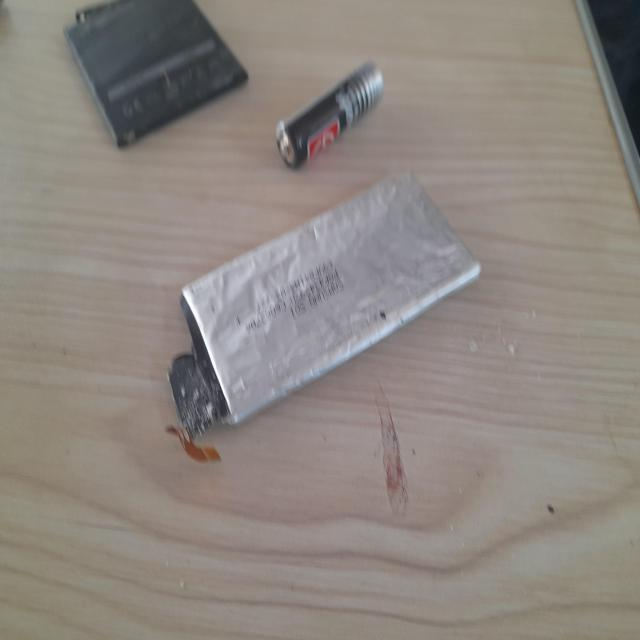AAA: (272, 51, 394, 171)
